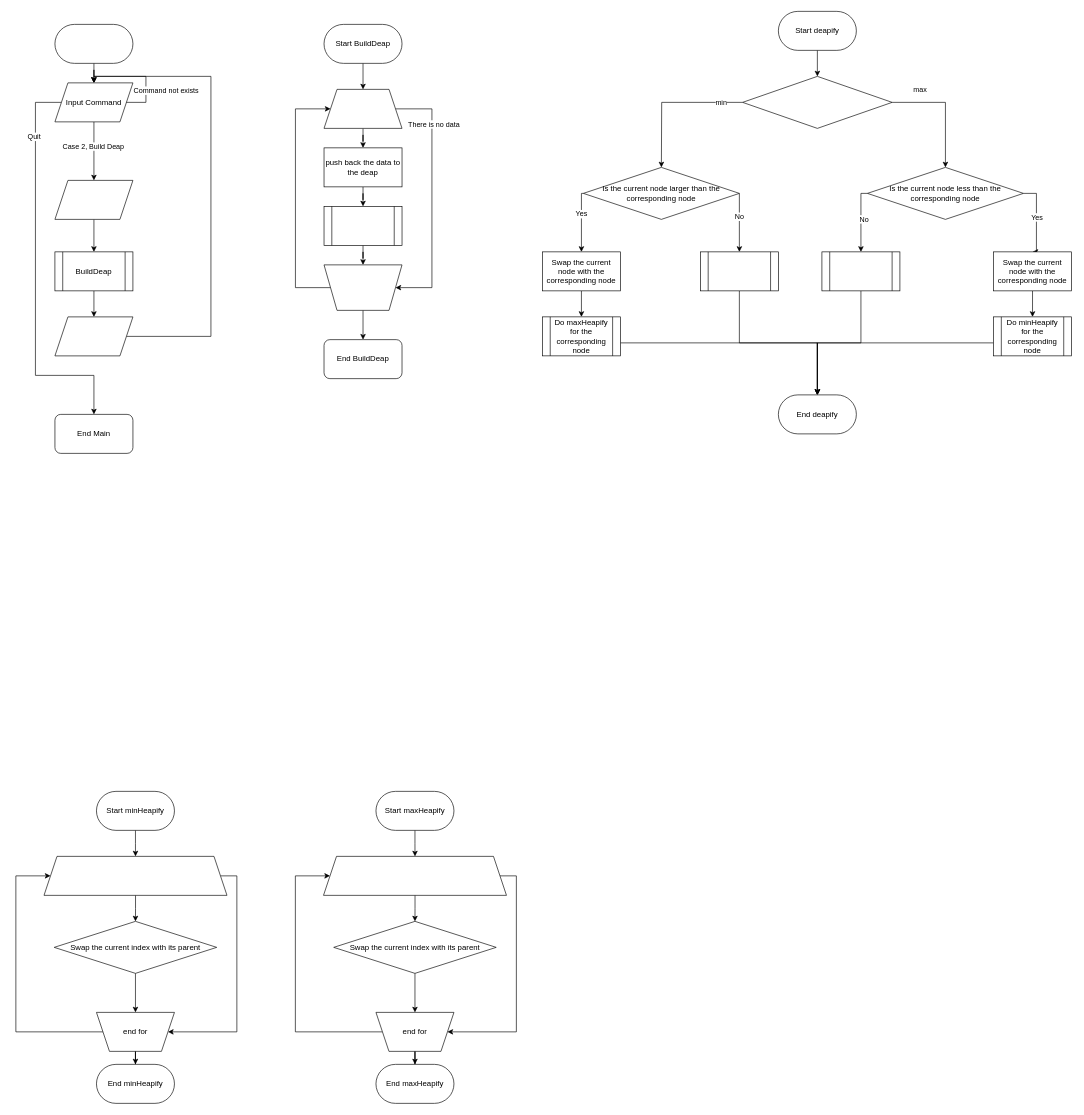
Image size: 1084x1115. Some labels were removed from this diagram. The centre of each missing label's shape, as x and y in pixels:
"Check the current index is at min side or max side" goes at pixel 817 102.
"Do deapify for the last index" goes at pixel 362 225.
"Do maxHeapify for the current node" goes at pixel 860 271.
"Do minHeapify for the current node" goes at pixel 739 271.
"end for all data" goes at pixel 362 287.
"for all data" goes at pixel 362 108.
"for all nonroot max heap nodes that larger than its parent (bottom up)" goes at pixel 414 875.
"for all nonroot min heap nodes that less than its parent (bottom up)" goes at pixel 135 875.
"Print Deap info" goes at pixel 93 336.
"Read all data" goes at pixel 93 199.
"Start Main" goes at pixel 93 43.
